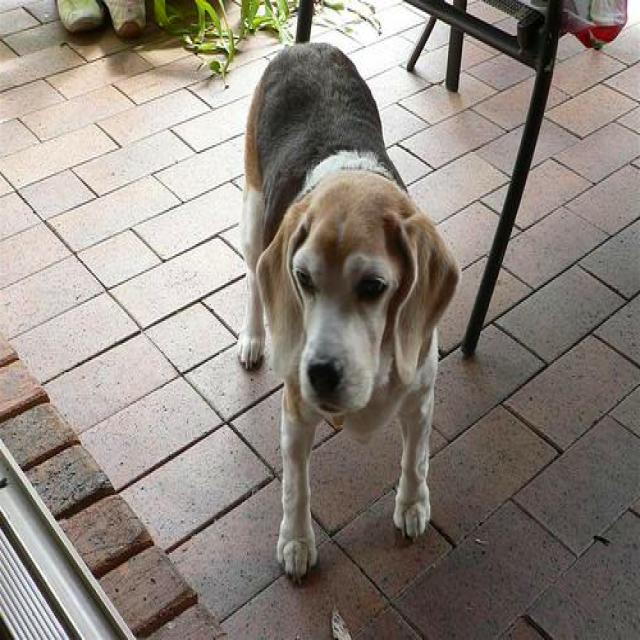beagle: (237, 42, 461, 580)
